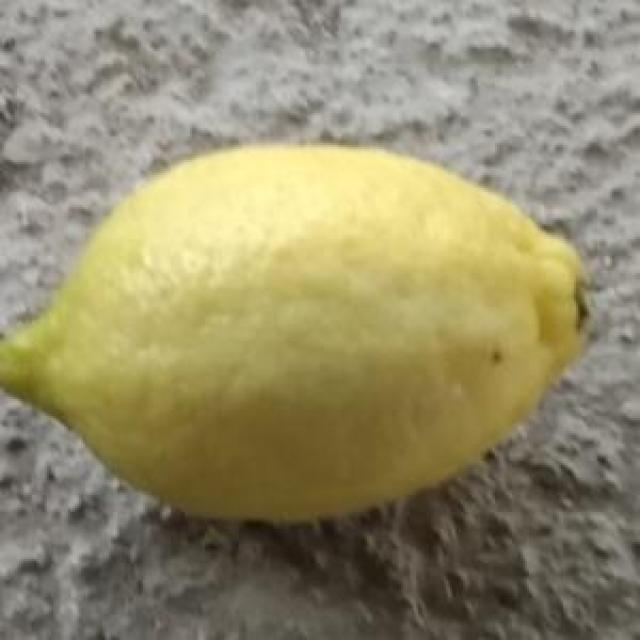lemon: (0, 142, 598, 526)
